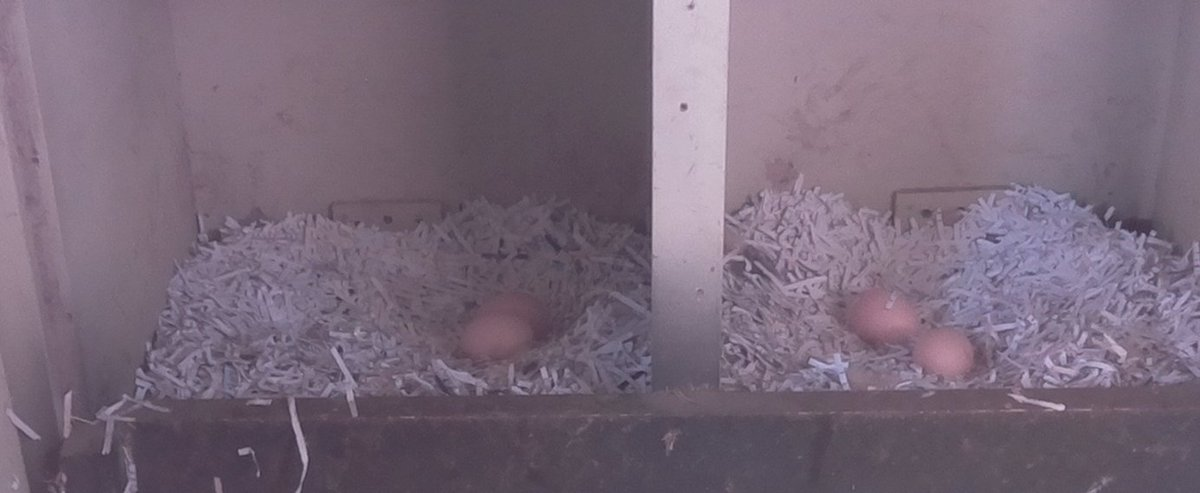egg: (843, 286, 925, 350), (472, 288, 554, 344), (911, 320, 977, 383), (460, 311, 536, 364)
